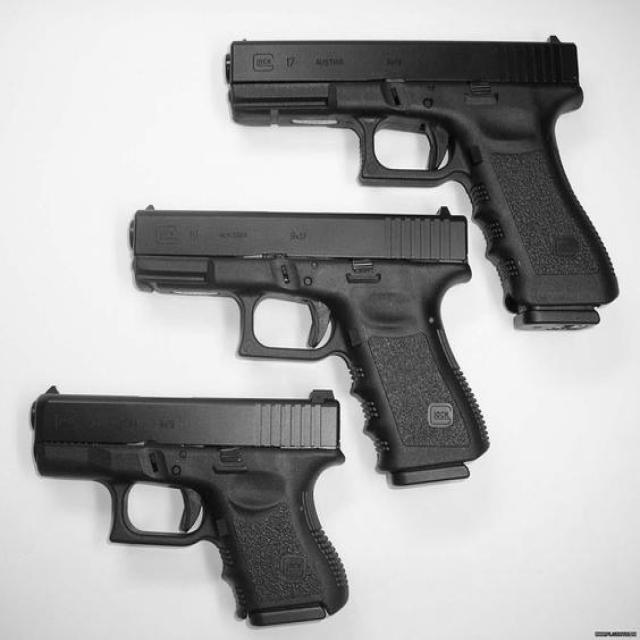gun: (224, 35, 618, 330), (127, 204, 490, 486), (29, 384, 348, 626)
